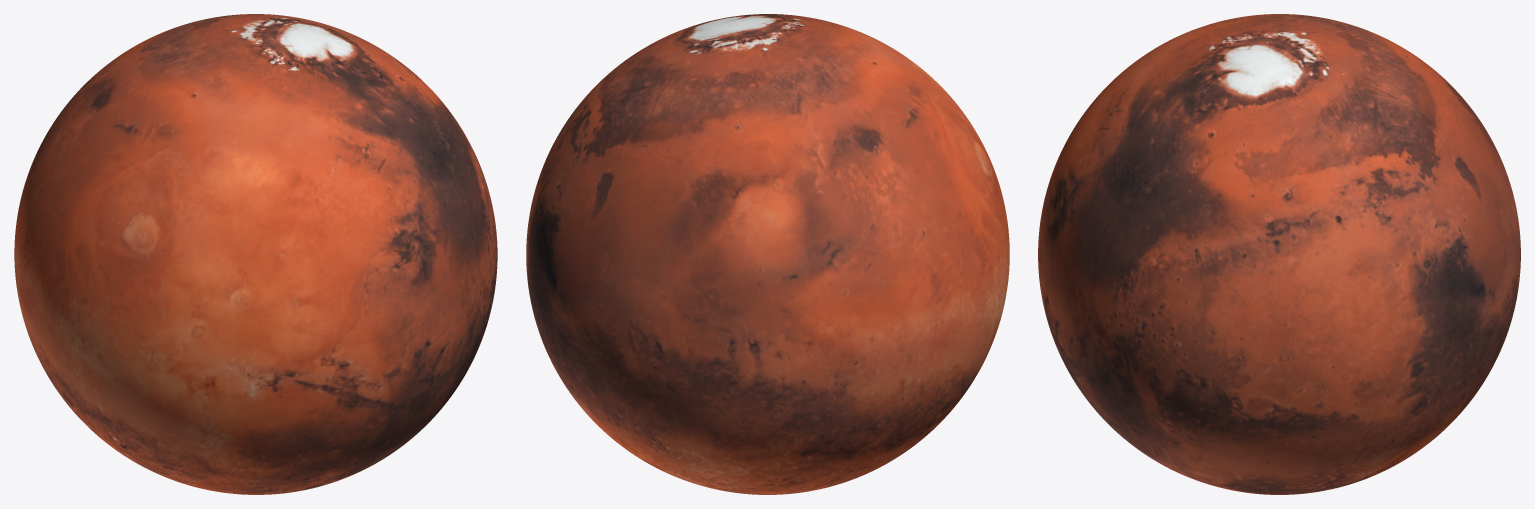
File: mars.glb
3 renders of one model, left to right at view 1: azimuth 30°, elevation 25°; view 2: azimuth 150°, elevation 25°; view 3: azimuth 270°, elevation 25°, orthographic.
Parts seen in each view (by area): view 1: Mars; view 2: Mars; view 3: Mars.
Boxes of the visible parts, <box> form: Mars: <box>14,14,497,494</box>; Mars: <box>526,14,1009,494</box>; Mars: <box>1038,14,1520,494</box>.
Size of the model in its own units: 2.8 by 2.78 by 2.8.
1 material, 1 textured.
